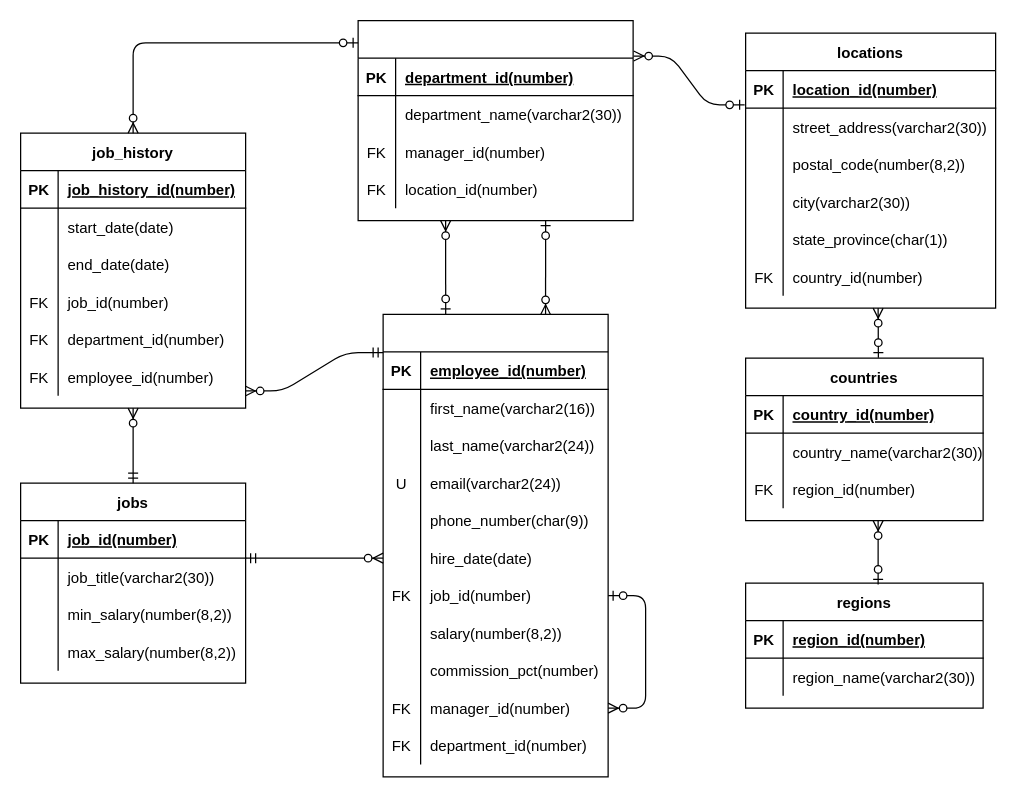
The diagram is 1016 pixels wide and 798 high, and some of its shapes have lost their labels. Here are the shapes that lost their labels. From the top down, the box of each, then its label:
(357, 19, 633, 221): departaments
(382, 313, 608, 777): employees
